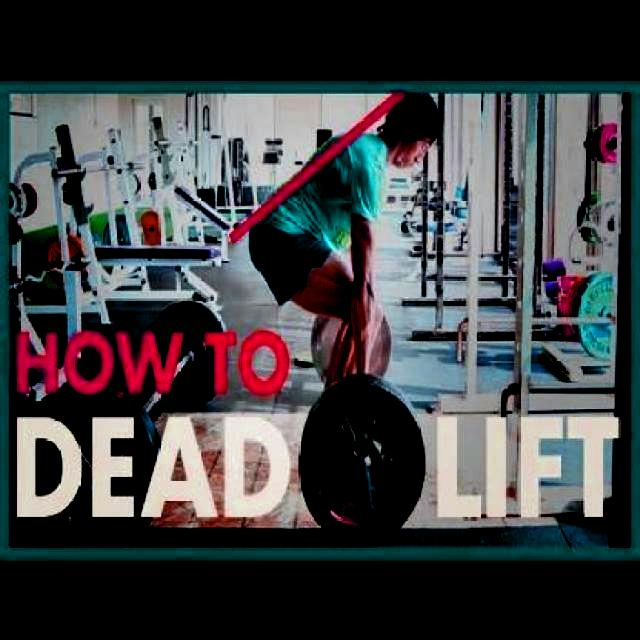barbell: (291, 369, 435, 549)
